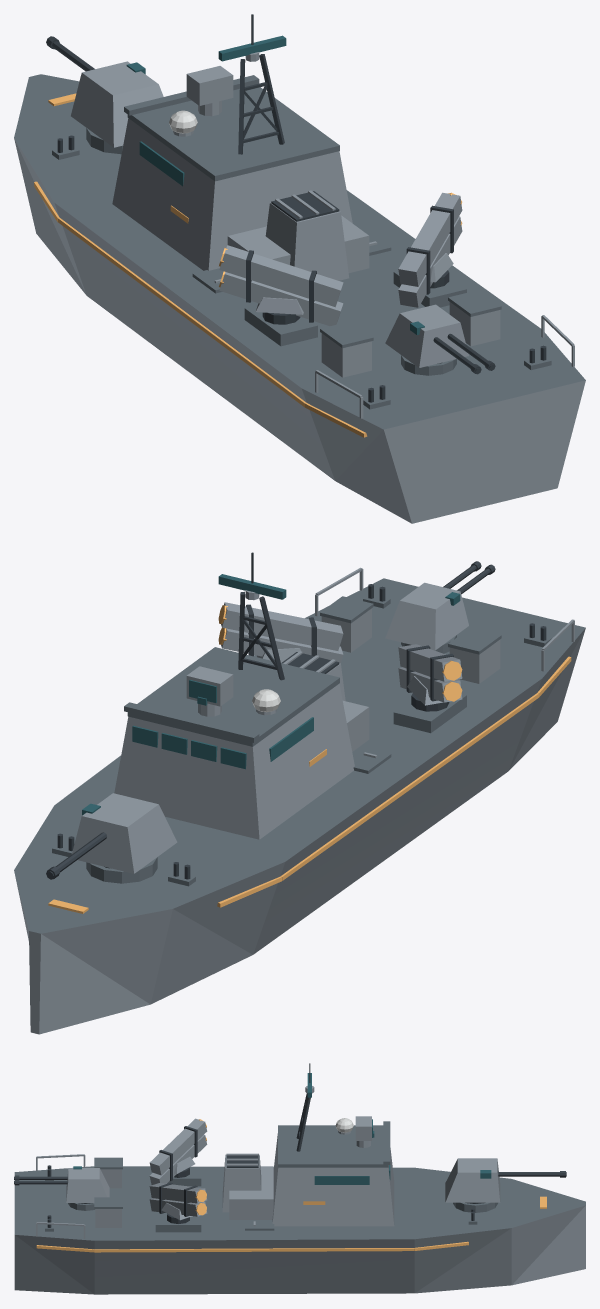
The model's file is ESC_STK_T2.fbx.
3 views of the same model, one above another, from view 1: azimuth 30°, elevation 25°; view 2: azimuth 150°, elevation 25°; view 3: azimuth 270°, elevation 25° (orthographic). The views are drawn at different scales.
Parts seen in each view (by area): view 1: ContinuousHull.014, Deckhouse.014, Roof.014, PrimaryGunCupola.014, FunnelEnclosure.014, AftGunCupola.001, MissileBankPortTube2, MissileBankStarboardTube2, AftEngineHouse, MissileBankPortTube1, RoleHullStripe-1_1, FireControlHousing (+12 smaller); view 2: ContinuousHull.014, Deckhouse.014, Roof.014, PrimaryGunCupola.014, AftGunCupola.001, MissileBankStarboardTube2, RoleHullStripe-1_1, BridgeBrow, MissileBankPortFoundation, AftAmmoLocker-1, MissileBankStarboardTube1, MissileBankPortTube2 (+10 smaller); view 3: ContinuousHull.014, Deckhouse.014, Roof.014, PrimaryGunCupola.014, AftEngineHouse, AftGunCupola.001, RoleHullStripe1_1, MissileBankPortTube2, FunnelEnclosure.014, MissileBankStarboardTube2, MissileBankStarboardFoundation, MissileBankPortTube1 (+13 smaller).
Boxes of the visible parts, <box> form: ContinuousHull.014: <box>14,74,585,523</box>; Deckhouse.014: <box>112,118,352,270</box>; Roof.014: <box>127,87,339,181</box>; PrimaryGunCupola.014: <box>71,61,163,147</box>; FunnelEnclosure.014: <box>265,202,349,280</box>; AftGunCupola.001: <box>385,304,468,367</box>; MissileBankPortTube2: <box>219,245,343,307</box>; MissileBankStarboardTube2: <box>398,192,462,286</box>; AftEngineHouse: <box>227,215,369,272</box>; MissileBankPortTube1: <box>219,272,343,326</box>; RoleHullStripe-1_1: <box>57,217,306,407</box>; FireControlHousing: <box>186,66,233,105</box>; ContinuousHull.014: <box>14,578,585,1034</box>; Deckhouse.014: <box>114,683,354,839</box>; Roof.014: <box>127,647,339,746</box>; PrimaryGunCupola.014: <box>71,793,177,873</box>; AftGunCupola.001: <box>385,582,468,650</box>; MissileBankStarboardTube2: <box>221,602,343,650</box>; RoleHullStripe-1_1: <box>280,693,538,880</box>; BridgeBrow: <box>124,702,259,742</box>; MissileBankPortFoundation: <box>393,694,466,733</box>; AftAmmoLocker-1: <box>449,639,500,683</box>; MissileBankStarboardTube1: <box>221,628,343,663</box>; MissileBankPortTube2: <box>398,644,462,681</box>; ContinuousHull.014: <box>14,1166,585,1294</box>; Deckhouse.014: <box>272,1133,394,1226</box>; Roof.014: <box>278,1125,388,1167</box>; PrimaryGunCupola.014: <box>445,1158,500,1202</box>; AftEngineHouse: <box>229,1166,273,1219</box>; AftGunCupola.001: <box>66,1168,109,1202</box>; RoleHullStripe1_1: <box>94,1248,414,1252</box>; MissileBankPortTube2: <box>149,1118,207,1175</box>; FunnelEnclosure.014: <box>222,1154,261,1212</box>; MissileBankStarboardTube2: <box>149,1183,206,1203</box>; MissileBankStarboardFoundation: <box>155,1213,201,1232</box>; MissileBankPortTube1: <box>149,1134,207,1184</box>.
Bounding box in the file's own units: 281 × 355 × 901.
